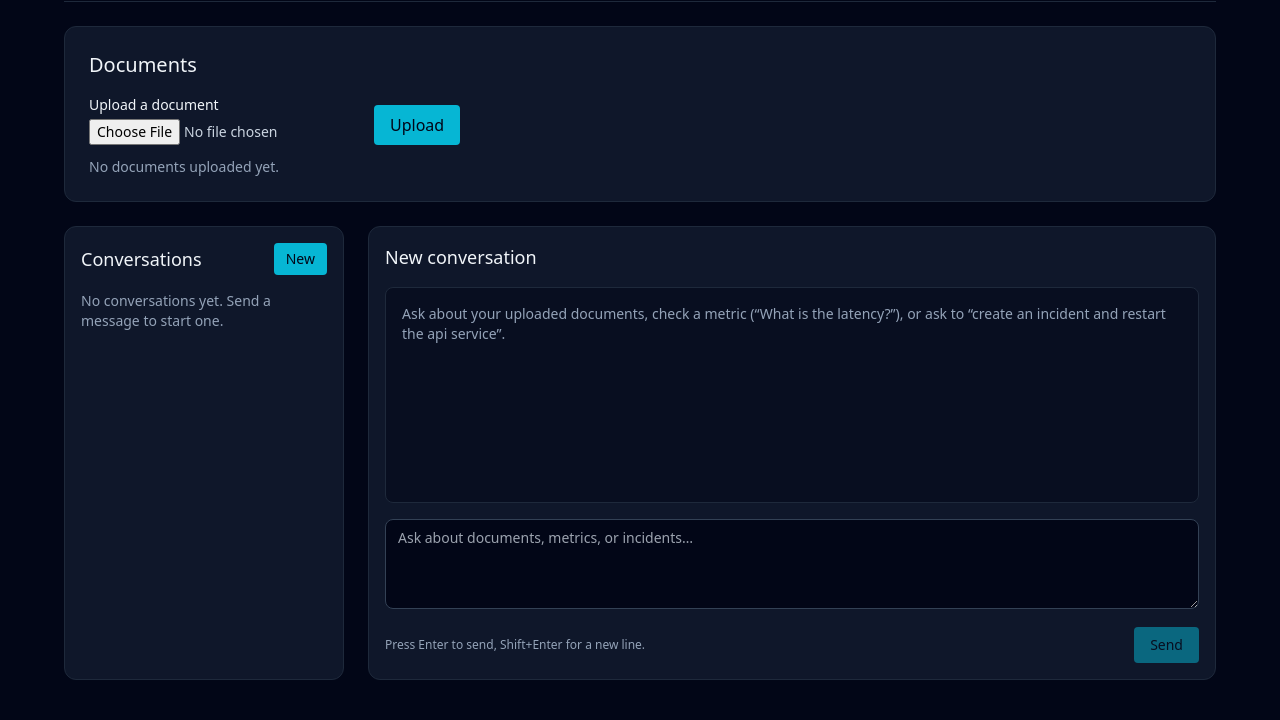
HomePage › starts a conversation automatically for the first message
(page scrolled)
Check: the text "No conversations yet. Send a message to start one." is shown, box 81,291 -> 271,330
Type "Hello" into the text box named "Chat message" at point(792, 564), box 385,519 -> 1199,609
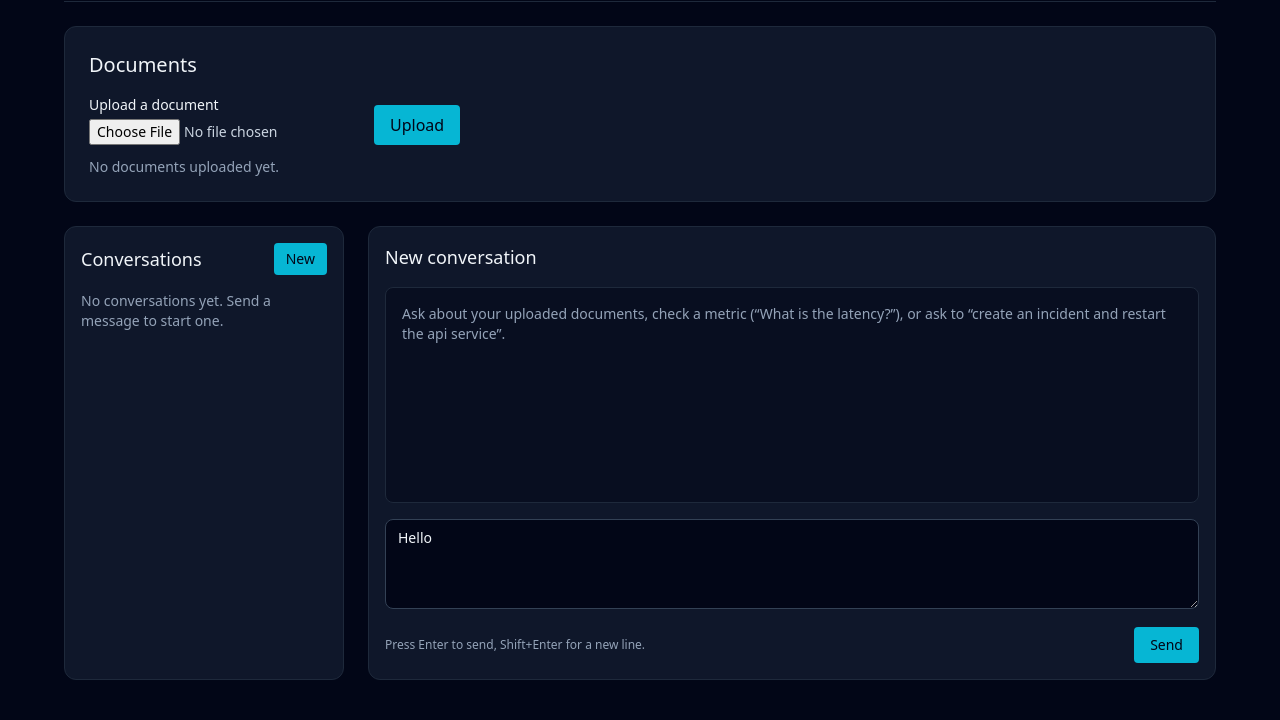
Click the button "Send" at point(1167, 645), box 1134,627 -> 1199,663
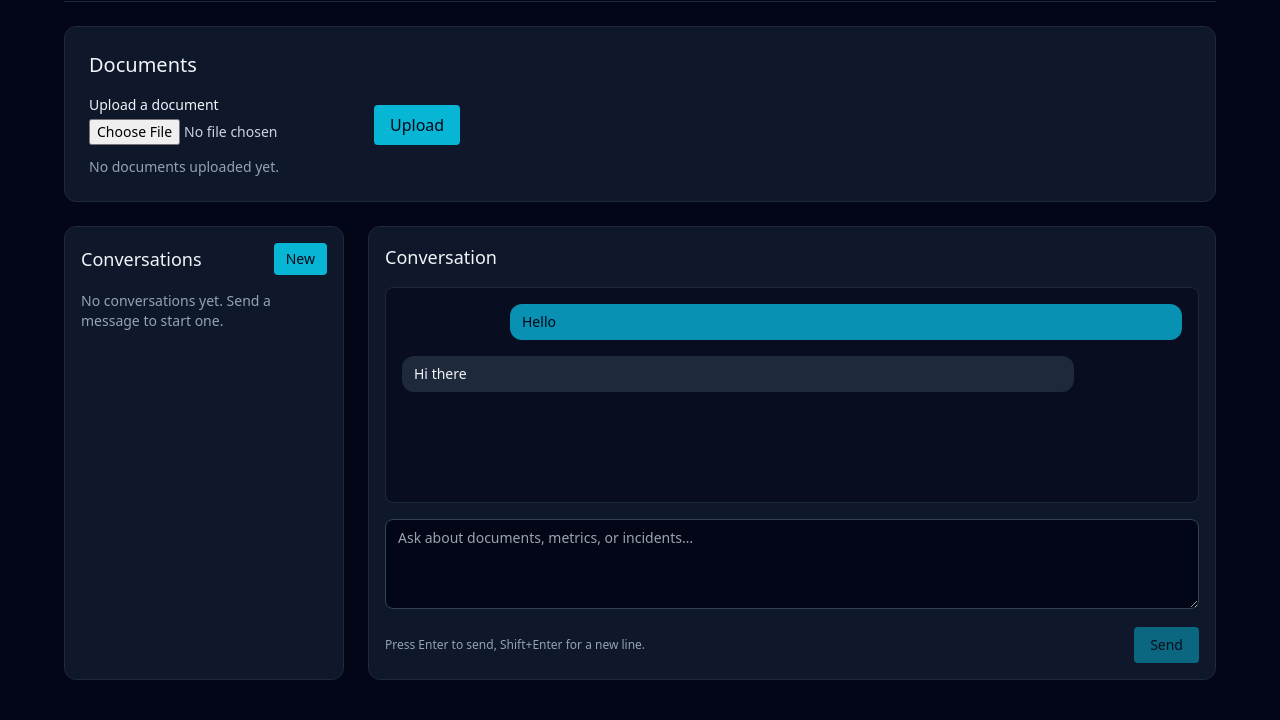
Check: the text "Hi there" is shown, box 414,364 -> 467,383
